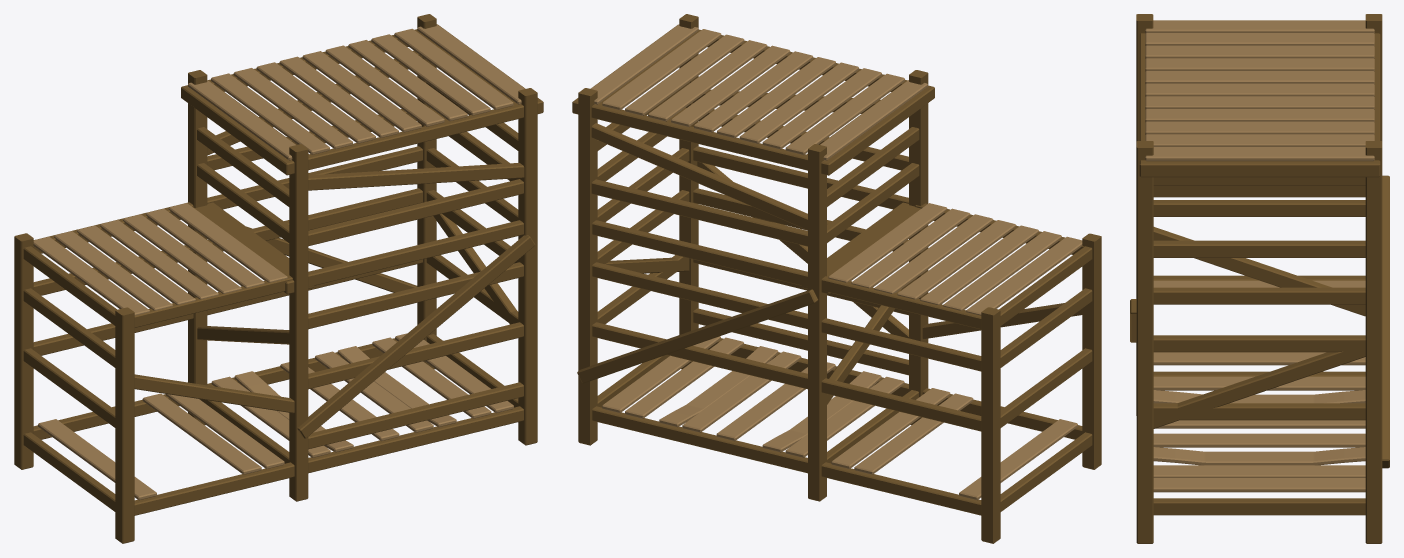
File: Scaffold_Doublefbx.fbx
The picture shows the model from 3 angles, left to right: view 1: azimuth 30°, elevation 25°; view 2: azimuth 150°, elevation 25°; view 3: azimuth 270°, elevation 25°; orthographic projection. The views are drawn at different scales.
Parts seen in each view (by area): view 1: TreasureChest_0002:TreasureChest_0002:polySurface1005; view 2: TreasureChest_0002:TreasureChest_0002:polySurface1005; view 3: TreasureChest_0002:TreasureChest_0002:polySurface1005.
Boxes of the visible parts, x1,y1,x2,y2 form: TreasureChest_0002:TreasureChest_0002:polySurface1005: (14,14,543,543); TreasureChest_0002:TreasureChest_0002:polySurface1005: (572,14,1101,543); TreasureChest_0002:TreasureChest_0002:polySurface1005: (1130,14,1389,543).
Size of the model in its own units: 369 by 292 by 173.
